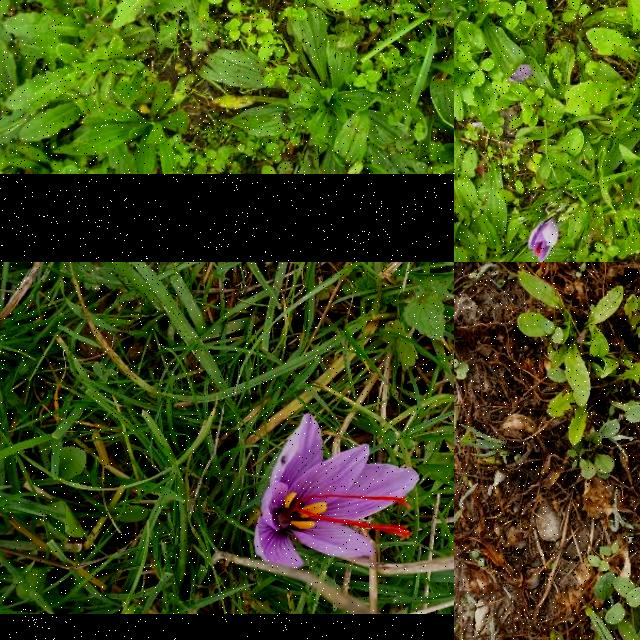flower: (254, 414, 421, 570), (528, 213, 559, 262)
